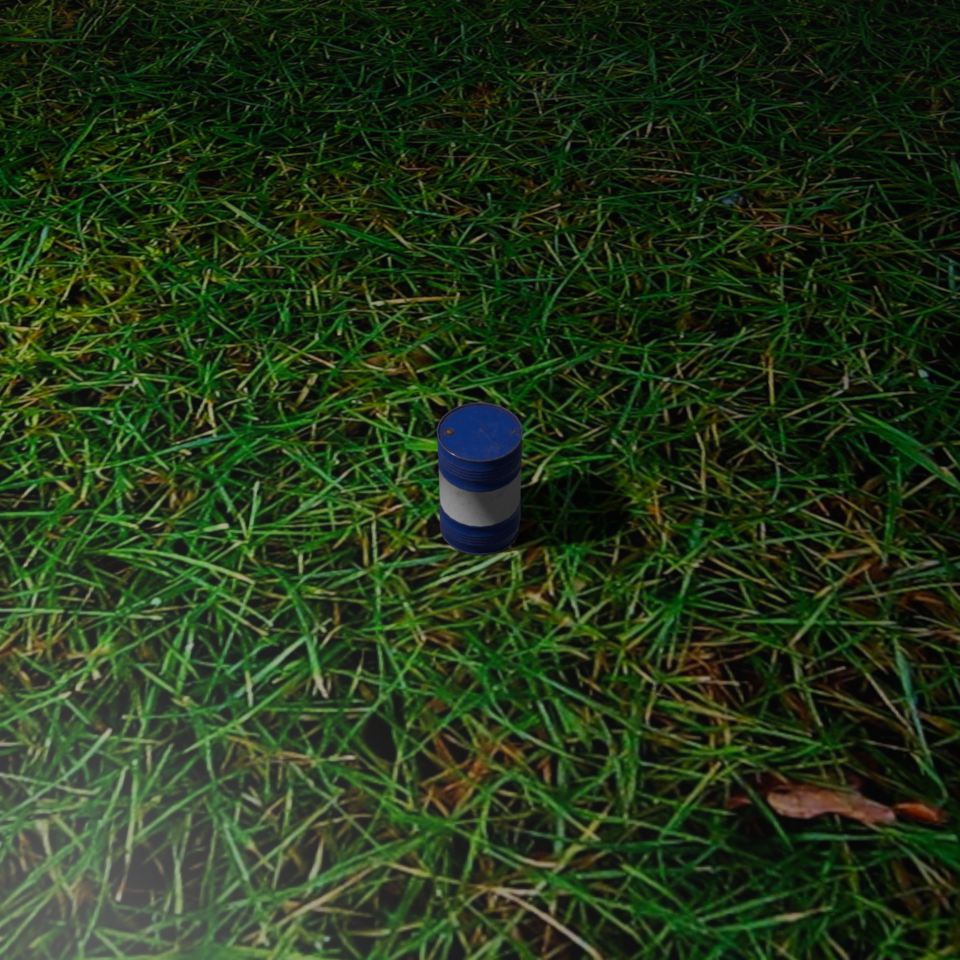circle: (435, 401, 523, 555)
